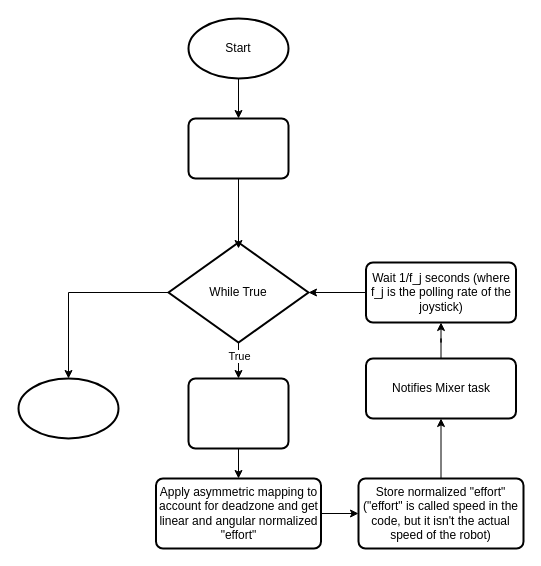
Image size: 541x566. Some labels were removed from this diagram. The shapes that lost their labels are listed below. From the top down, each one's centre as x and y in pixels, then its label:
(238,148): Init pins, etc
(68,408): End
(238,413): analogRead for x and y
